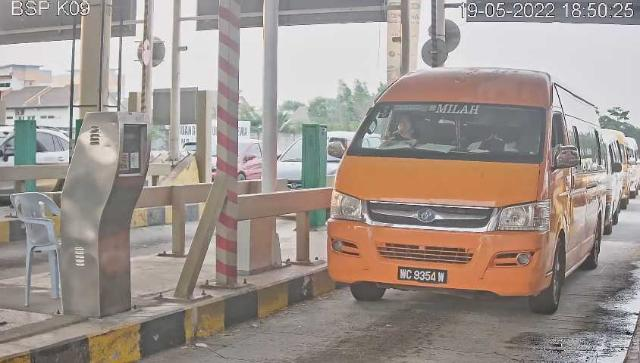License_Plate: (397, 267, 449, 289)
van: (328, 70, 607, 316)
